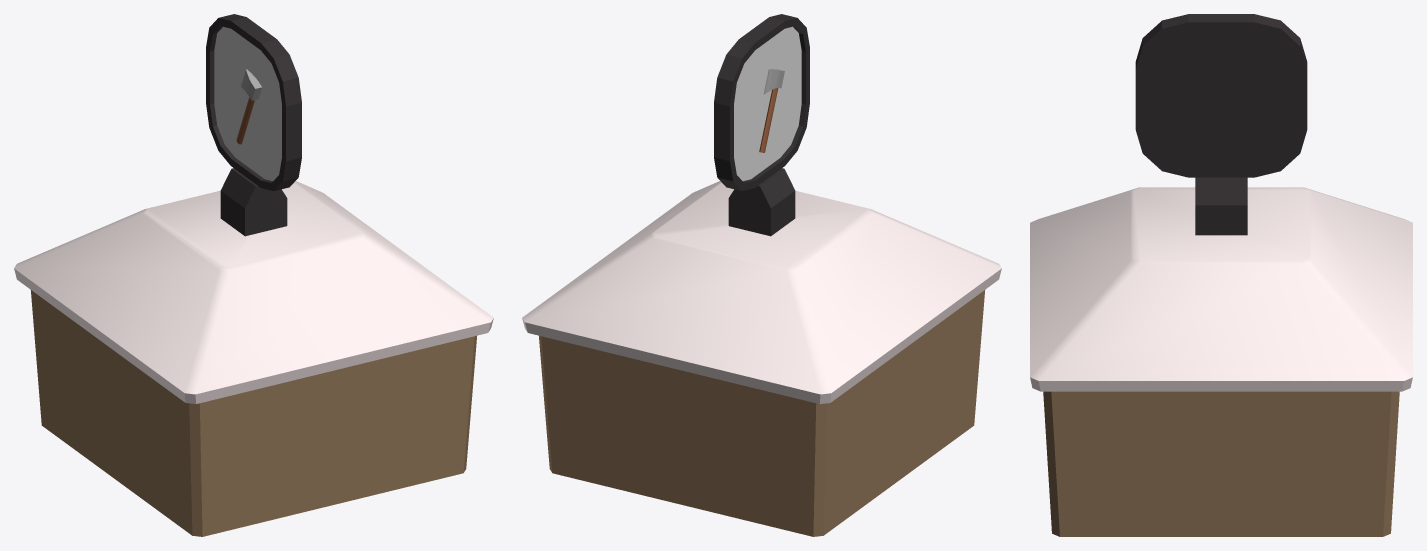
The model's file is SM_WoodCutterHouse.fbx.
3 renders of one model, left to right at view 1: azimuth 30°, elevation 25°; view 2: azimuth 150°, elevation 25°; view 3: azimuth 270°, elevation 25°, orthographic. The views are drawn at different scales.
Parts seen in each view (by area): view 1: SM_WoodCutterHouse; view 2: SM_WoodCutterHouse; view 3: SM_WoodCutterHouse.
Boxes of the visible parts, <box> form: SM_WoodCutterHouse: <box>14,14,493,536</box>; SM_WoodCutterHouse: <box>522,14,1001,536</box>; SM_WoodCutterHouse: <box>1030,14,1412,536</box>.
Bounding box in the file's own units: 226 × 291 × 226.
